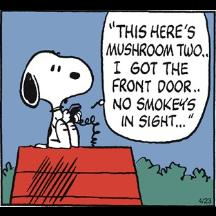snoopy: (19, 48, 96, 148)
